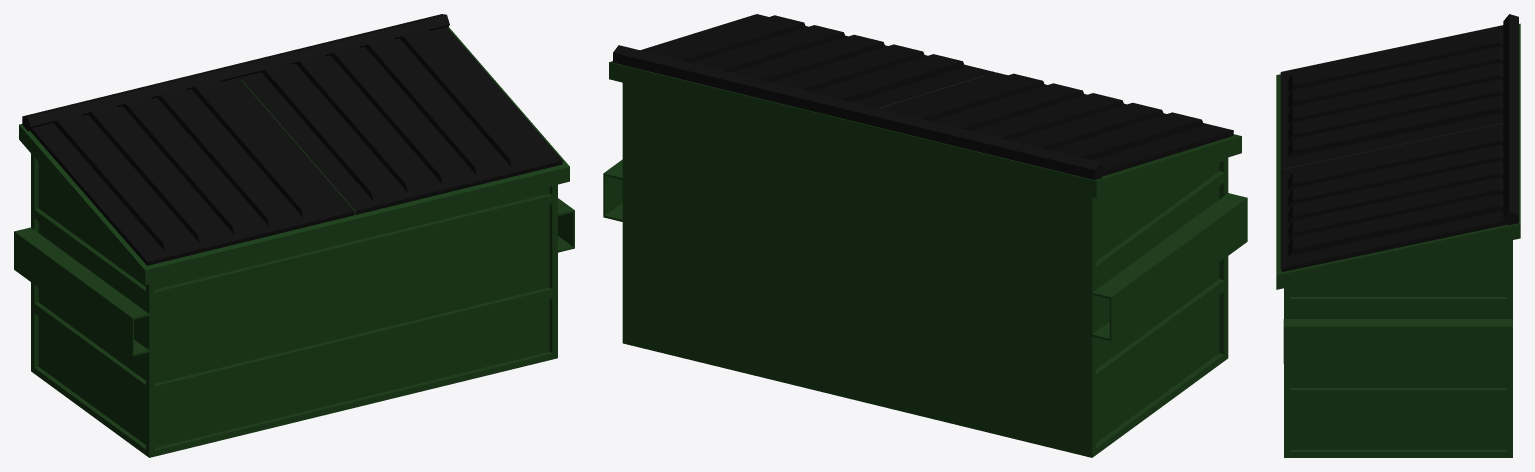
Rendered from Dustbin_Container.FBX.
The picture shows the model from 3 angles, left to right: view 1: azimuth 30°, elevation 25°; view 2: azimuth 150°, elevation 25°; view 3: azimuth 270°, elevation 25°; orthographic projection. The views are drawn at different scales.
Parts seen in each view (by area): view 1: Box003; view 2: Box003; view 3: Box003.
Part boxes in pixels (x1,y1,x2,y2): Box003: (14, 14, 574, 457); Box003: (603, 14, 1247, 457); Box003: (1276, 14, 1520, 457).
Size of the model in its own units: 2.19 by 1.21 by 1.08.
